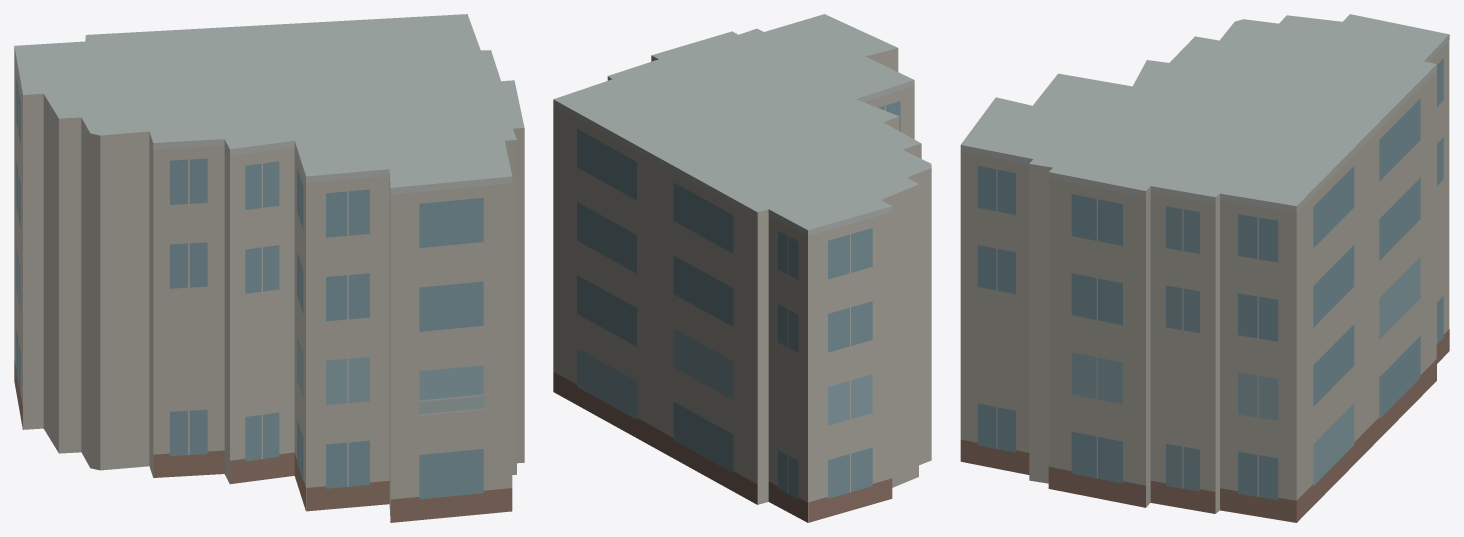
File: survey-upis-32658489.glb
The picture shows the model from 3 angles, left to right: view 1: azimuth 30°, elevation 25°; view 2: azimuth 150°, elevation 25°; view 3: azimuth 270°, elevation 25°; orthographic projection. The views are drawn at different scales.
Parts seen in each view (by area): view 1: survey-upis-32658489.tmp; view 2: survey-upis-32658489.tmp; view 3: survey-upis-32658489.tmp.
Part boxes in pixels (x1,y1,x2,y2): survey-upis-32658489.tmp: (14,14,524,522); survey-upis-32658489.tmp: (553,14,931,522); survey-upis-32658489.tmp: (960,14,1449,522).
Size of the model in its own units: 15.88 by 12.2 by 17.07.
